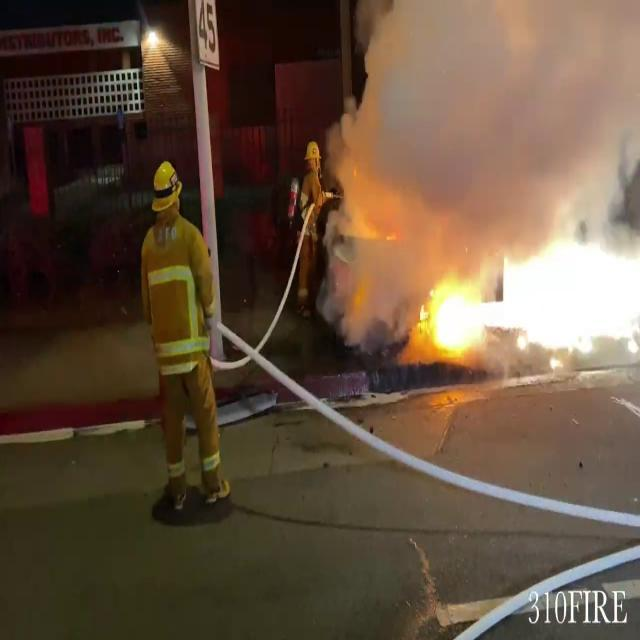Fire: (406, 222, 640, 368)
Smoke: (315, 0, 640, 278)
